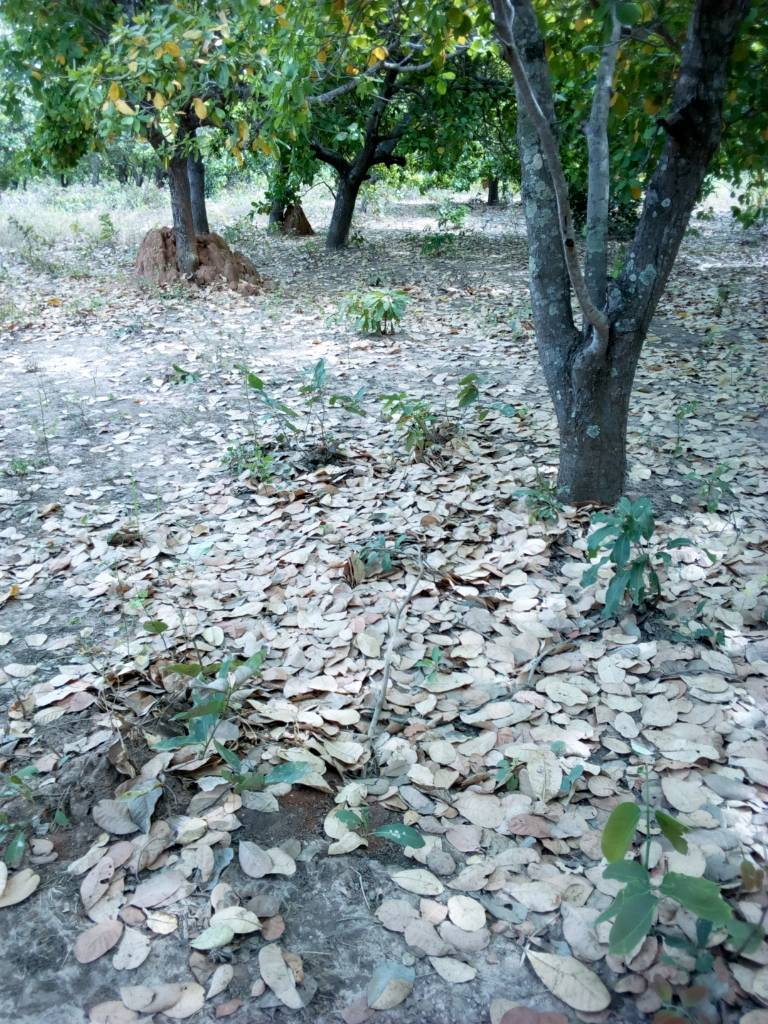Termites: (140, 224, 254, 285)
